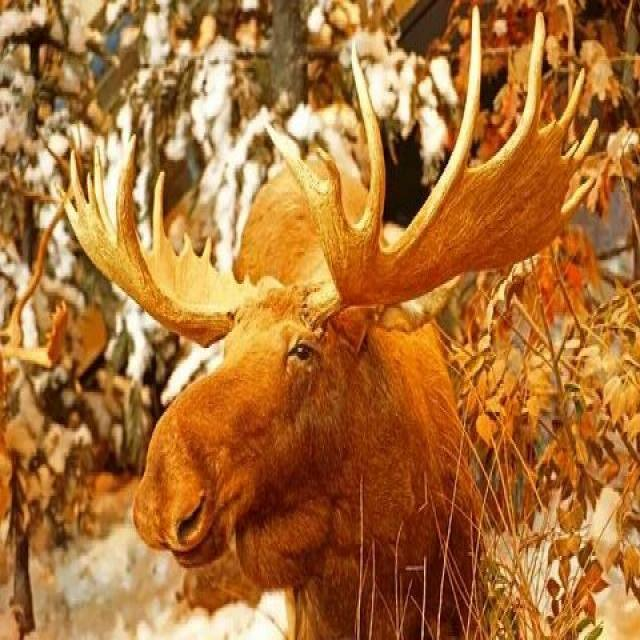deer: (97, 69, 576, 640)
